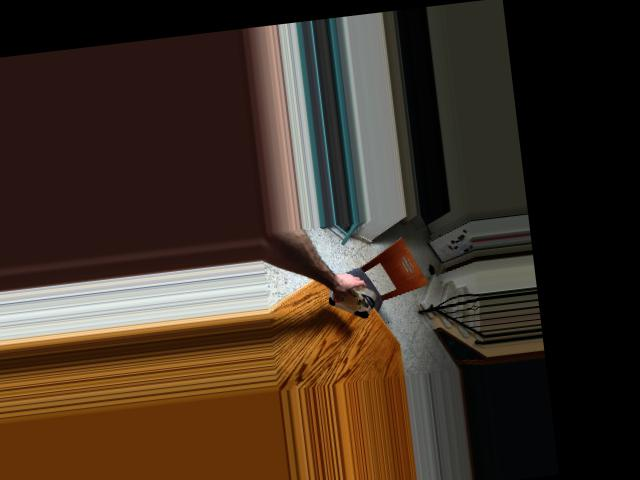cheese: (322, 270, 378, 322)
